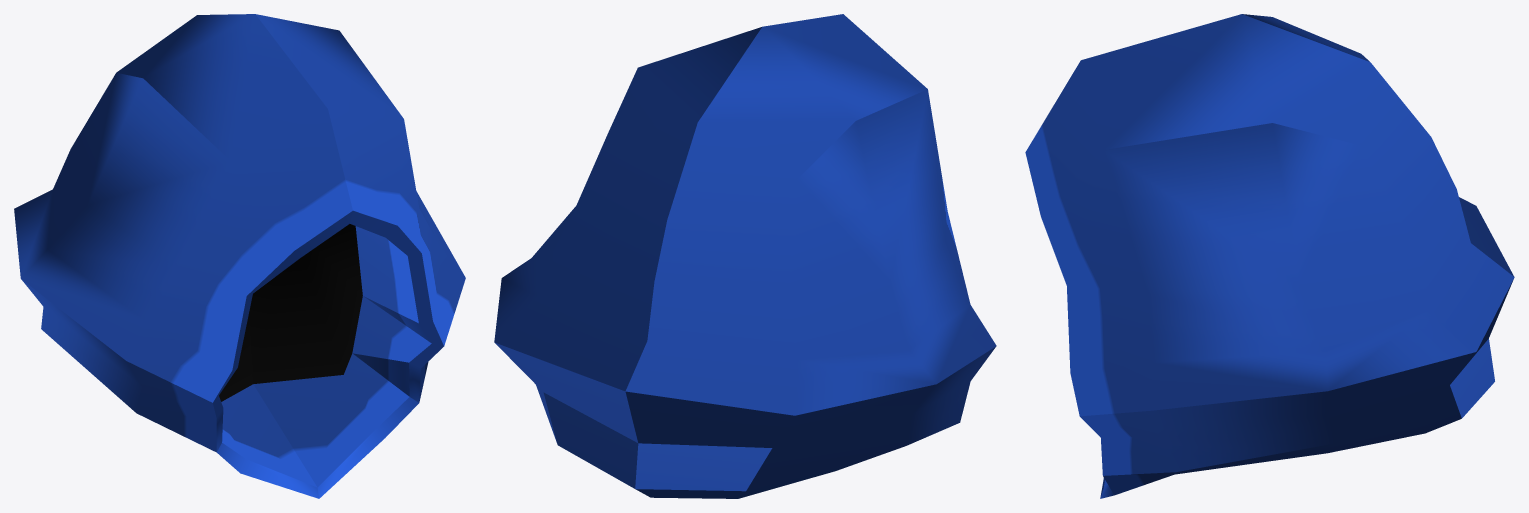
File: pk-polysplit-heroes-hood.glb
The picture shows the model from 3 angles, left to right: view 1: azimuth 30°, elevation 25°; view 2: azimuth 150°, elevation 25°; view 3: azimuth 270°, elevation 25°; orthographic projection. The views are drawn at different scales.
Visible parts, largest first — view 1: Hood; view 2: Hood; view 3: Hood.
Boxes of the visible parts, bbox=[...] form: Hood: bbox=[14, 14, 465, 498]; Hood: bbox=[494, 14, 996, 498]; Hood: bbox=[1025, 14, 1514, 498].
Bounding box in the file's own units: 0.4441 × 0.4751 × 0.4344.
1 material, 1 textured.
